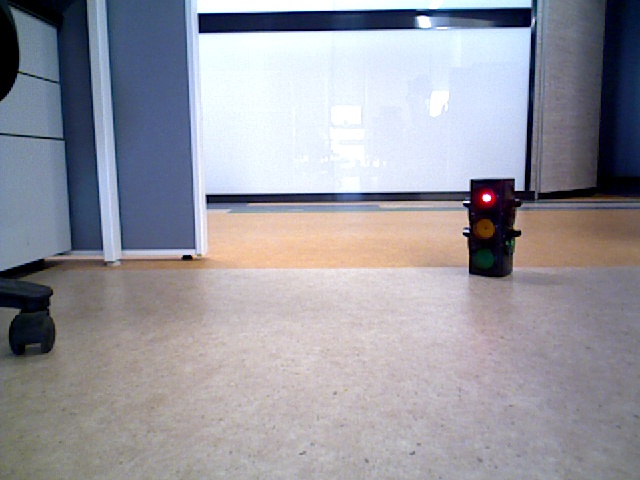red: (469, 180, 507, 271)
